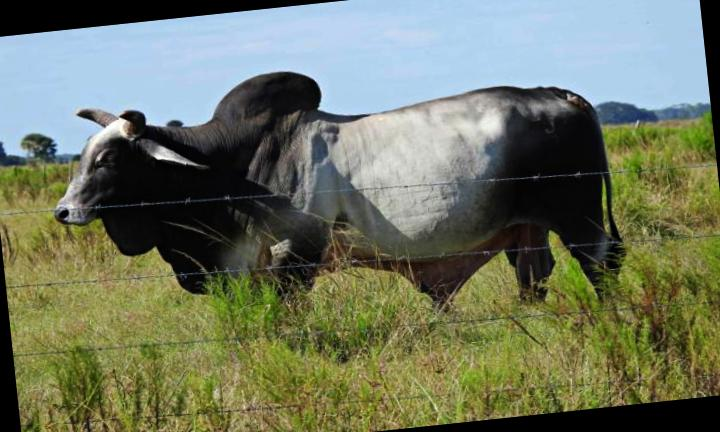Brahman: (54, 72, 623, 307)
